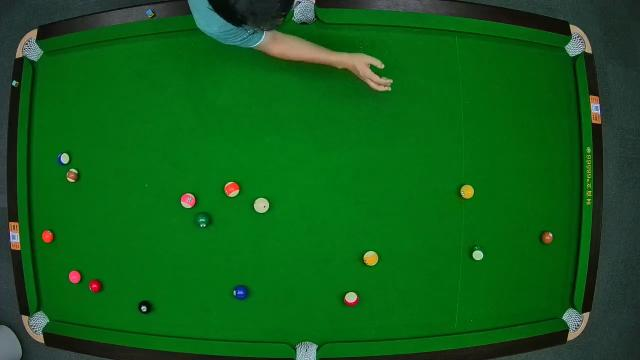bag1: (20, 39, 42, 61)
bag2: (292, 0, 316, 26)
bag3: (564, 34, 588, 58)
bag4: (30, 308, 50, 334)
bag5: (295, 338, 319, 360)
bag6: (563, 310, 585, 332)
ball0: (253, 198, 270, 214)
ball1: (460, 184, 474, 198)
ball10: (57, 152, 71, 164)
ball11: (345, 291, 359, 305)
ball12: (180, 192, 196, 210)
ball13: (224, 180, 240, 198)
ball14: (470, 245, 484, 260)
ball15: (66, 168, 80, 182)
ball2: (233, 284, 249, 300)
ball3: (88, 279, 102, 293)
ball4: (68, 270, 82, 284)
ball5: (42, 229, 54, 243)
ball6: (195, 210, 212, 228)
ball7: (538, 231, 554, 245)
ball8: (138, 299, 152, 315)
ball9: (364, 250, 380, 266)
